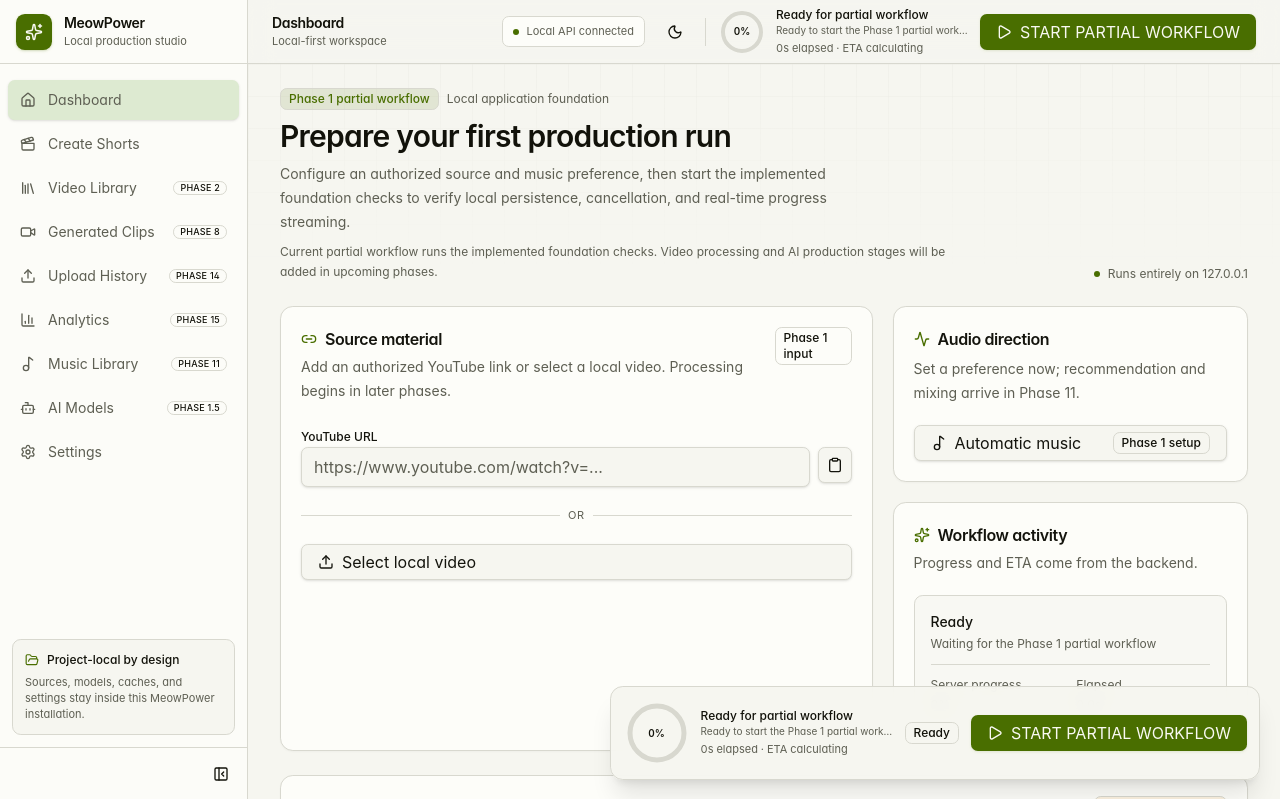
Test: Phase 1.5 provider discovery and credential profiles › supports explicit refresh and genuine connection testing
Click the link "AI Models Phase 1.5". click: coordinates (81, 408)
box: [20,399,227,416]
(page scrolled)
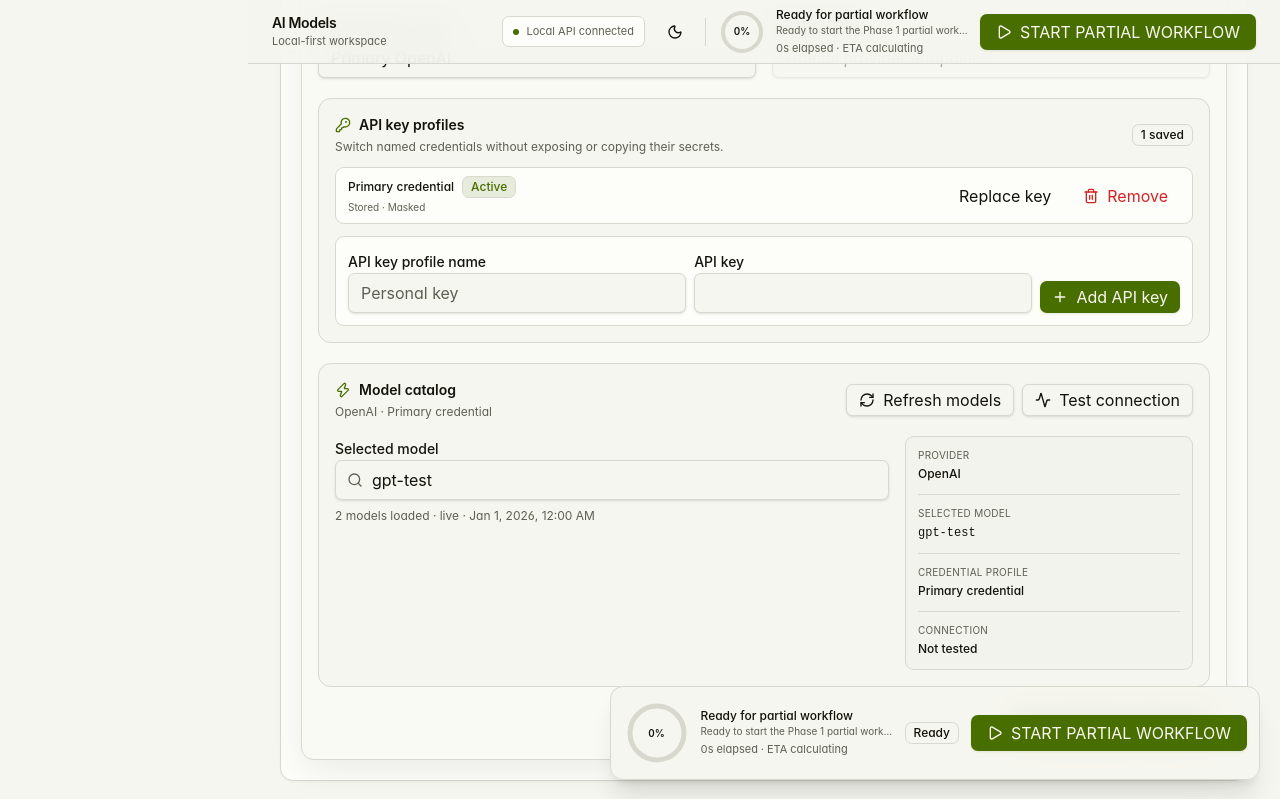
Click the button "Refresh models". click: coordinates (930, 400)
box: [846,384,1014,416]
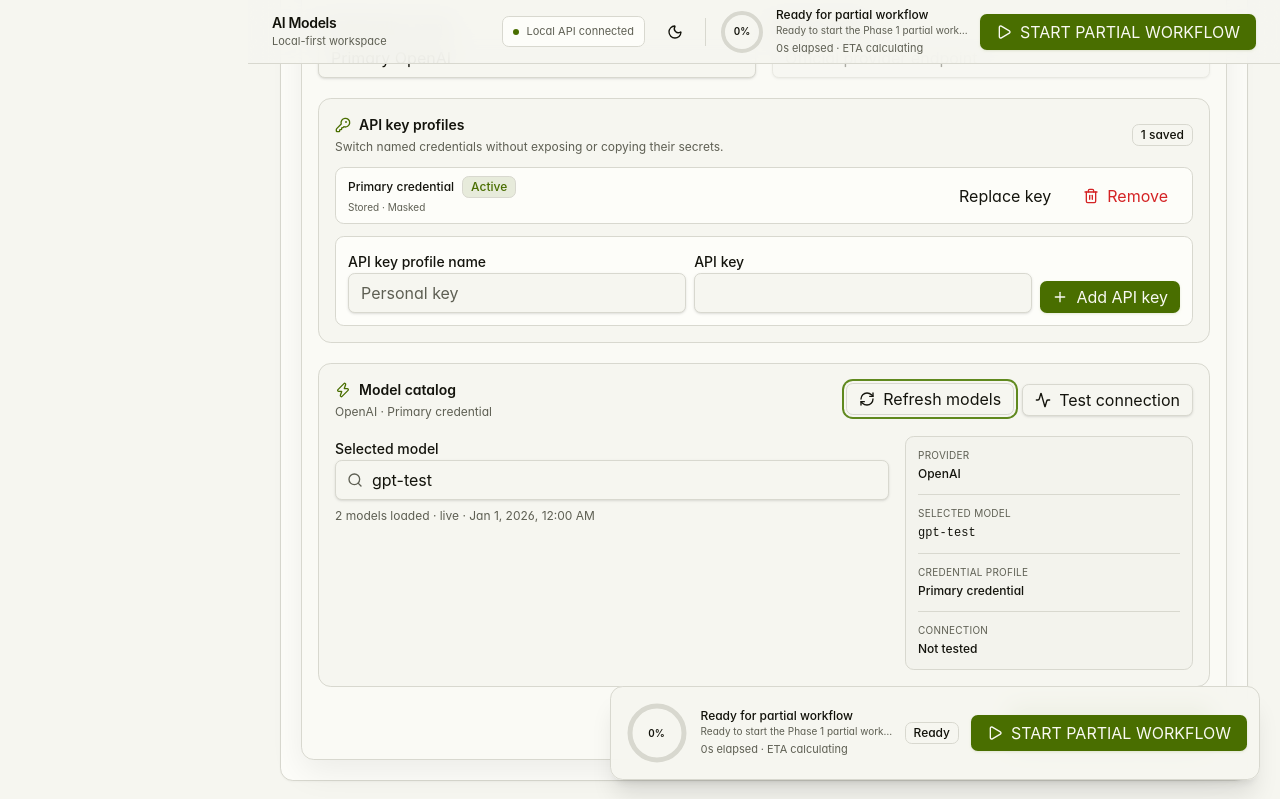
Click the button "Test connection". click: coordinates (1108, 400)
box: [1022,384,1193,416]
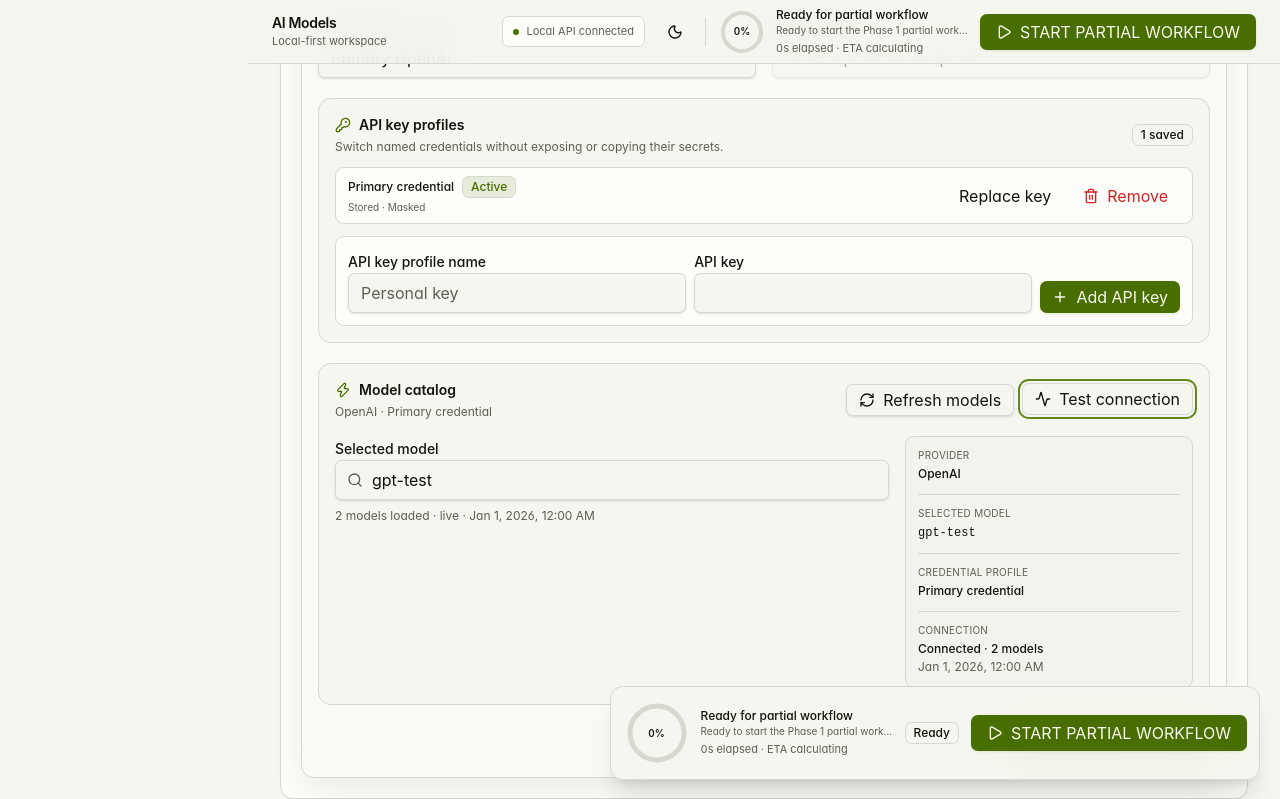
Now the text "Connected · 2 models" is shown, box [918,641,1043,656]
